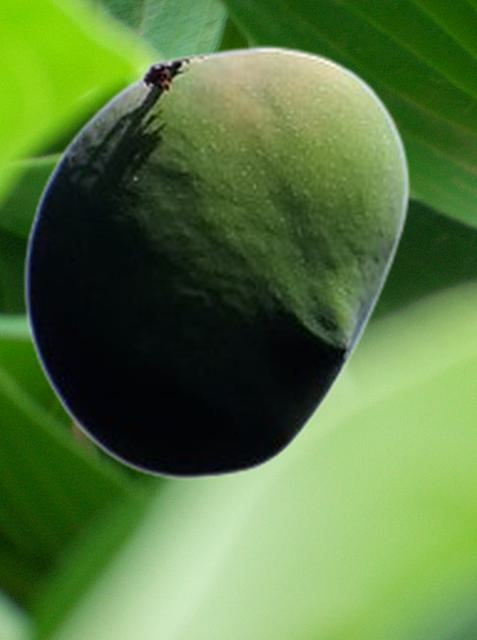green_mango: (22, 44, 411, 479)
